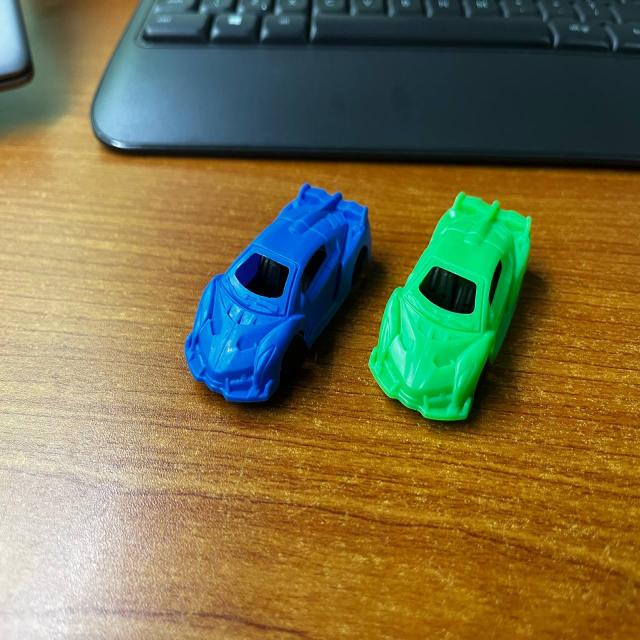car: (177, 177, 375, 419), (367, 191, 543, 431)
